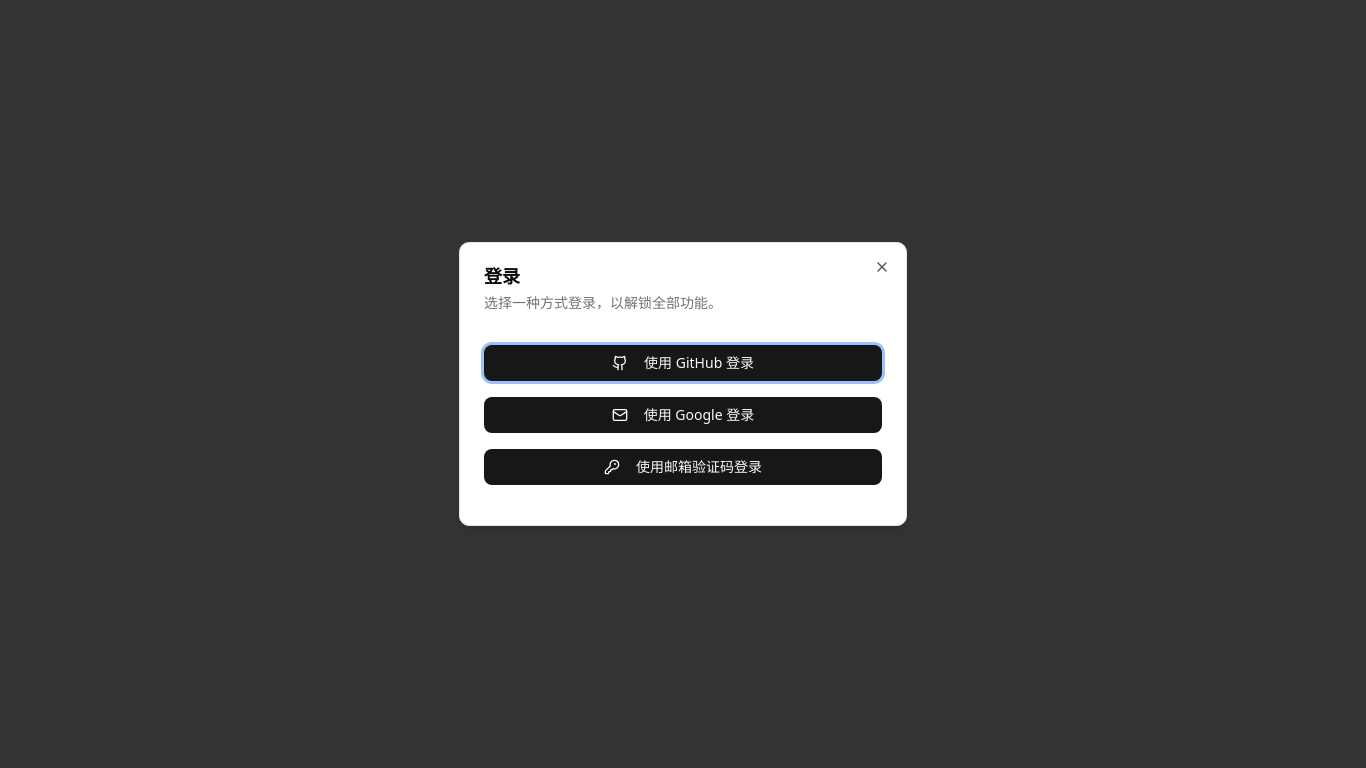
Scenario: LoginDialog › headless 能力开启时邮箱入口只进入弹窗两步流程，不触发任何 SDK 跳转
This screenshot has width=1366, height=768.
Step 1. Click the button "使用邮箱验证码登录" → x=683, y=467, box x1=484 y1=449 x2=882 y2=485
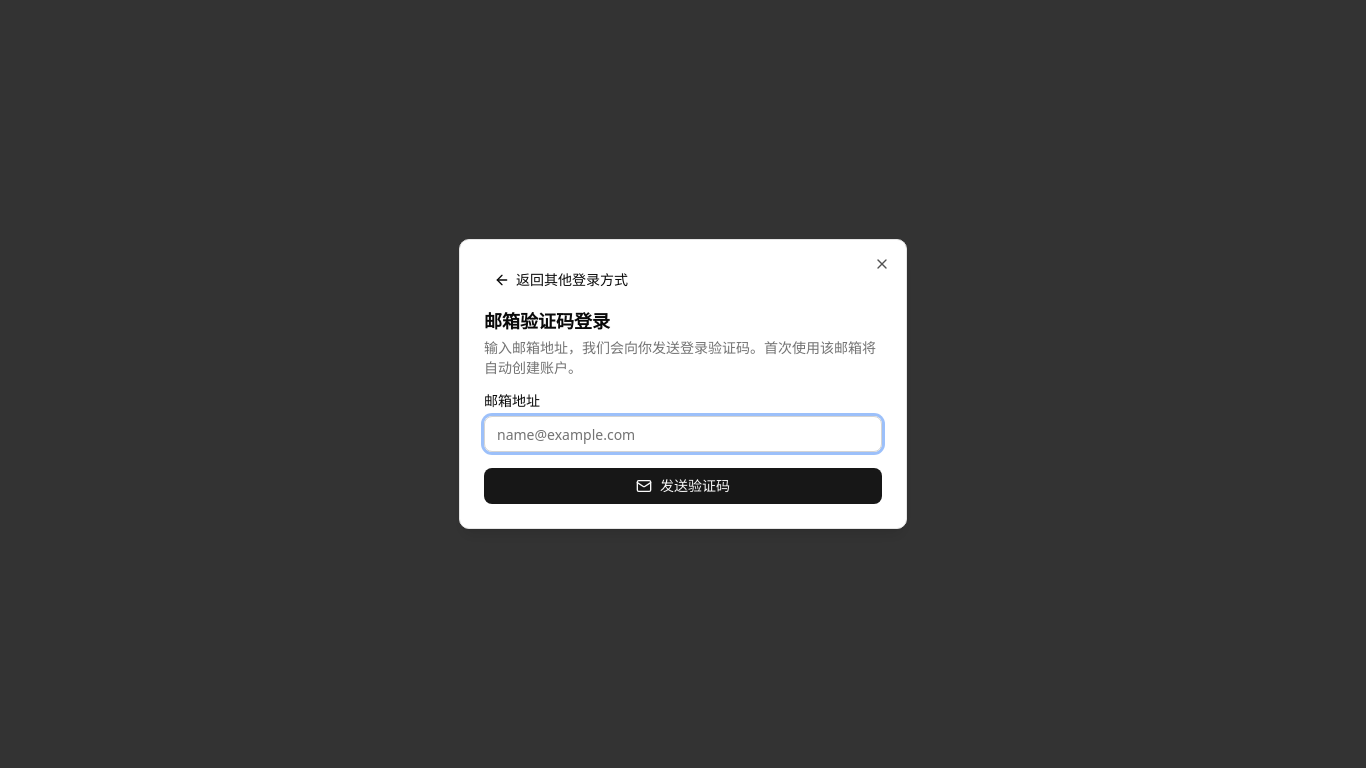
Check: the field labelled "邮箱地址" is shown, box x1=484 y1=416 x2=882 y2=452
Check: the button "使用 GitHub 登录" is gone
